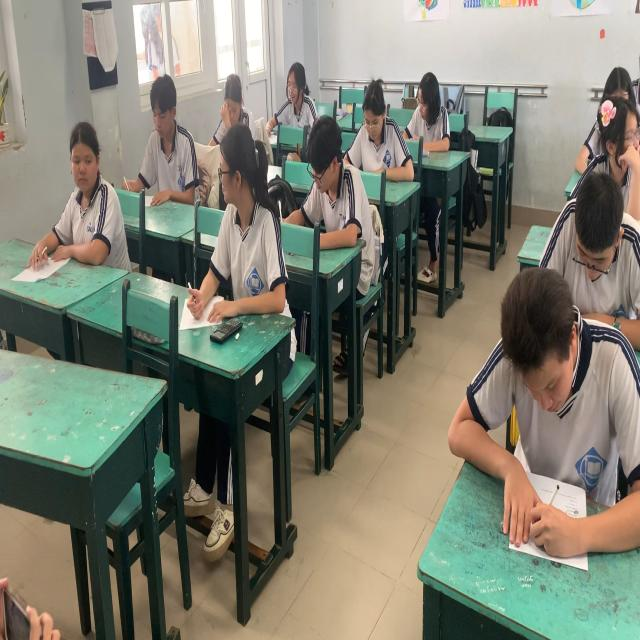cheating: (204, 118, 283, 323), (44, 107, 124, 266)
not_cheating: (480, 260, 640, 516), (548, 165, 640, 330), (298, 108, 368, 255), (132, 69, 196, 211), (351, 76, 407, 194), (590, 88, 640, 202), (399, 50, 453, 150), (213, 62, 258, 140), (280, 54, 322, 124)
